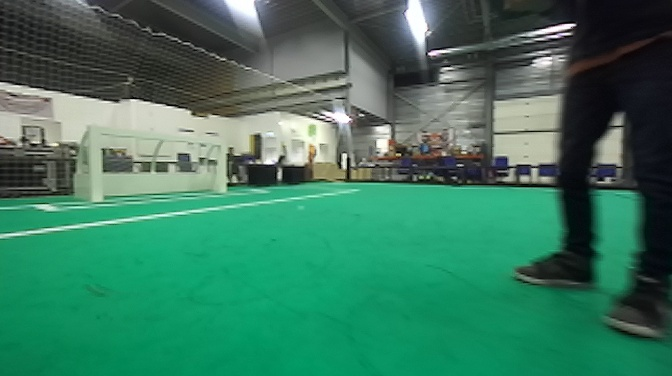goalpost: (73, 124, 111, 202), (206, 135, 227, 195)
human: (513, 2, 665, 344)
